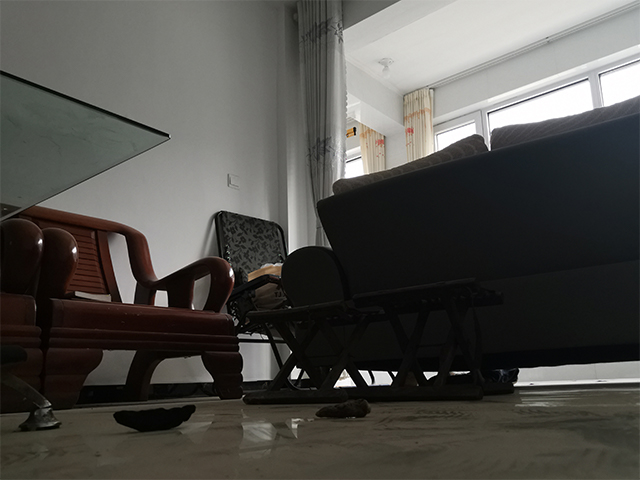curtain: (294, 2, 347, 194)
feces: (111, 403, 197, 433), (314, 396, 372, 419)
sofa: (279, 94, 640, 391), (1, 201, 245, 406)
stool: (241, 275, 516, 403), (208, 209, 317, 399)
table: (1, 71, 173, 433)
